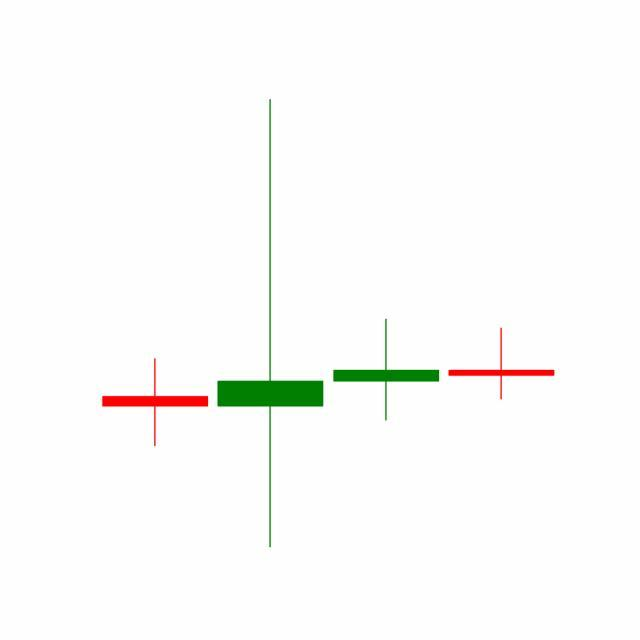Spinning Top: (329, 318, 445, 423)
